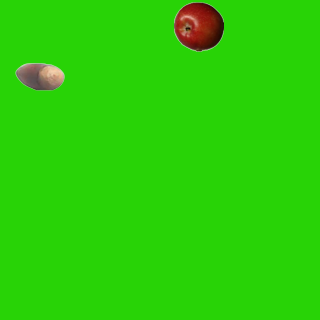Apple Braeburn: (173, 1, 223, 51)
Hazelnut: (14, 51, 64, 101)
